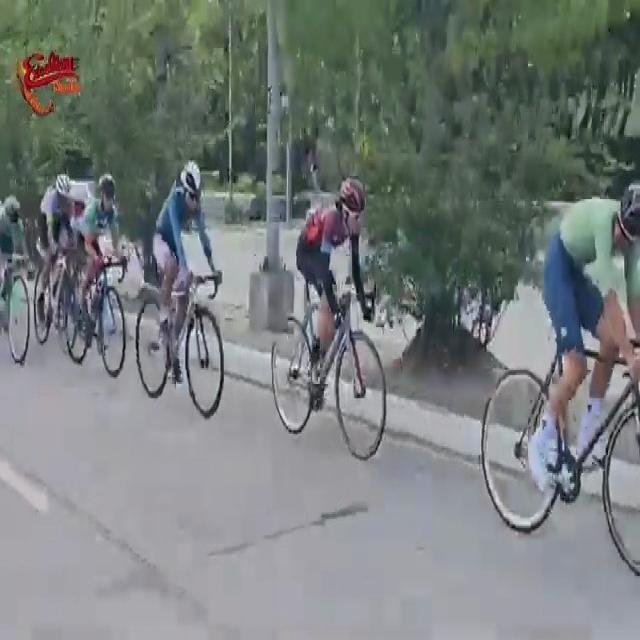bike: (479, 172, 640, 585), (270, 171, 388, 457), (136, 163, 226, 422), (67, 174, 127, 377), (33, 172, 76, 356), (0, 189, 31, 367)
